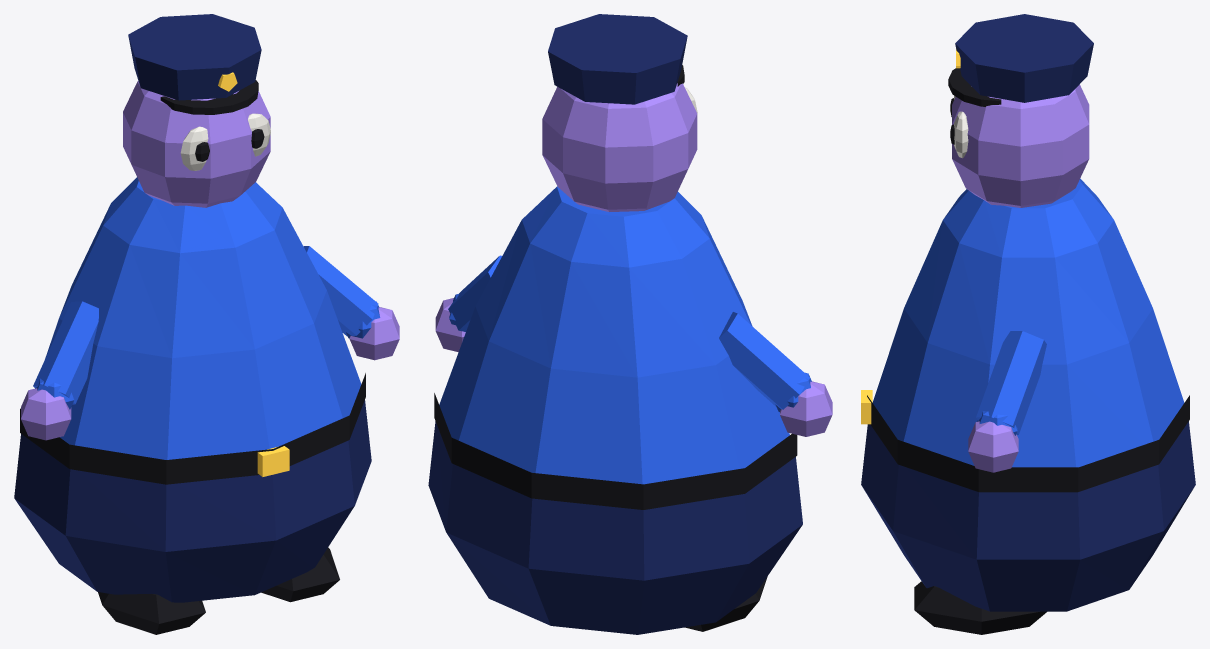
File: cop_3.glb
3 views of the same model, side by side, from view 1: azimuth 30°, elevation 25°; view 2: azimuth 150°, elevation 25°; view 3: azimuth 270°, elevation 25° (orthographic). The views are drawn at different scales.
Visible parts, largest first — view 1: body_shirt, body_pants, head_skin_violeta, cap_cap, body_black, arms_shirt, legs_black, arms_skin_violeta, cap_black, face_white, body_gold; view 2: body_shirt, body_pants, head_skin_violeta, cap_cap, body_black, arms_shirt, arms_skin_violeta, legs_black; view 3: body_shirt, body_pants, head_skin_violeta, cap_cap, body_black, arms_shirt, legs_black, arms_skin_violeta, cap_black, face_white.
Part boxes in pixels (left/top/right/bottom): body_shirt: left=45, top=177, right=361, bottom=459; body_pants: left=14, top=400, right=371, bottom=602; head_skin_violeta: left=123, top=81, right=270, bottom=207; cap_cap: left=128, top=14, right=261, bottom=100; body_black: left=20, top=373, right=365, bottom=484; arms_shirt: left=33, top=246, right=380, bottom=409; legs_black: left=98, top=547, right=339, bottom=634; arms_skin_violeta: left=21, top=307, right=399, bottom=440; cap_black: left=160, top=80, right=258, bottom=114; face_white: left=180, top=113, right=270, bottom=170; body_gold: left=257, top=446, right=289, bottom=476; body_shirt: left=439, top=186, right=789, bottom=484; body_pants: left=428, top=421, right=802, bottom=634; head_skin_violeta: left=542, top=83, right=697, bottom=211; cap_cap: left=548, top=14, right=687, bottom=104; body_black: left=434, top=393, right=797, bottom=509; arms_shirt: left=448, top=255, right=811, bottom=411; arms_skin_violeta: left=435, top=298, right=832, bottom=436; legs_black: left=684, top=576, right=767, bottom=631; body_shirt: left=872, top=178, right=1184, bottom=467; body_pants: left=861, top=421, right=1195, bottom=611; head_skin_violeta: left=952, top=84, right=1089, bottom=207; cap_cap: left=955, top=14, right=1093, bottom=102; body_black: left=867, top=395, right=1189, bottom=492; arms_shirt: left=976, top=331, right=1046, bottom=435; legs_black: left=914, top=581, right=1046, bottom=634; arms_skin_violeta: left=968, top=421, right=1018, bottom=472; cap_black: left=948, top=68, right=1001, bottom=106; face_white: left=954, top=96, right=968, bottom=158.
Bounding box in the file's own units: 1.13 × 1.56 × 0.86.
